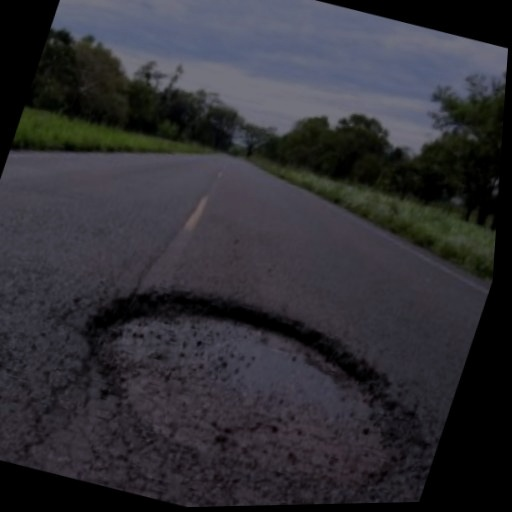pothole: (38, 254, 467, 510)
